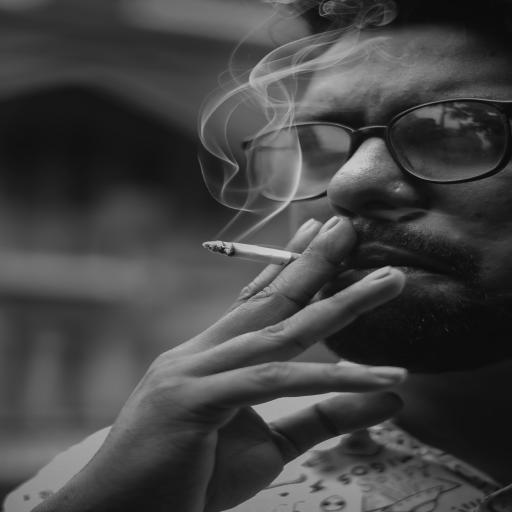merokok: (174, 123, 395, 343)
